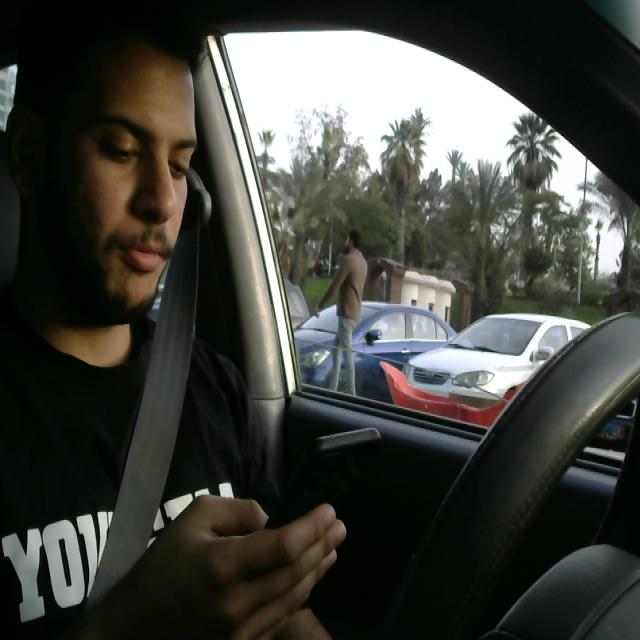mobile use: (225, 426, 379, 584)
